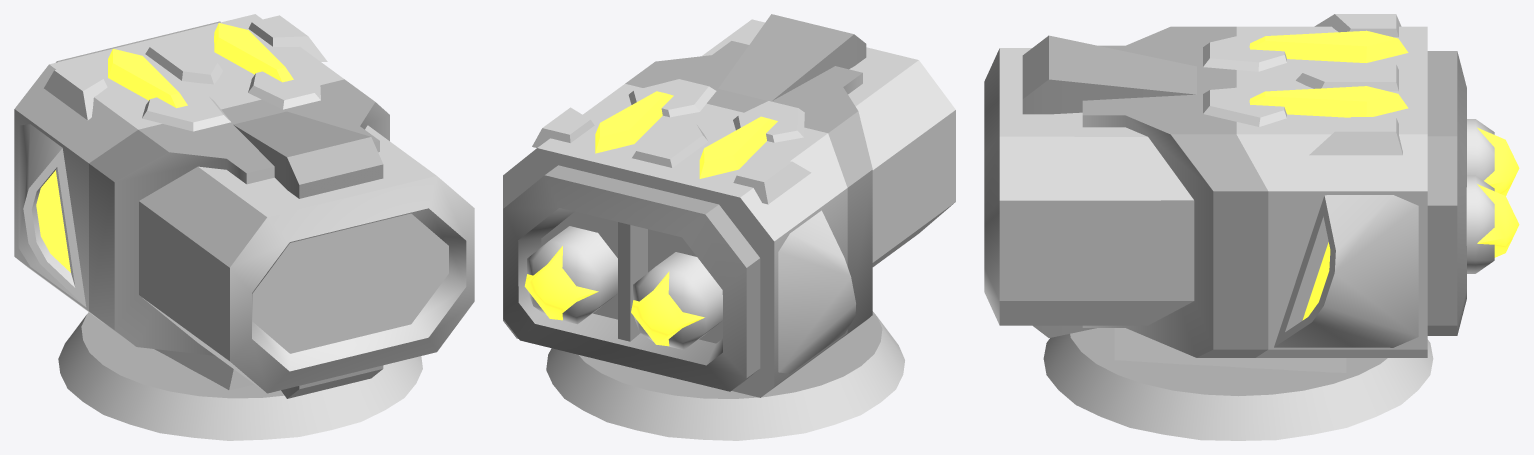
Rendered from SM_Module_TurretHead_Rocket_T1.fbx.
3 renders of one model, left to right at view 1: azimuth 30°, elevation 25°; view 2: azimuth 150°, elevation 25°; view 3: azimuth 270°, elevation 25°, orthographic. The views are drawn at different scales.
Visible parts, largest first — view 1: SM_Module_TurretHead_Rocket_T1; view 2: SM_Module_TurretHead_Rocket_T1; view 3: SM_Module_TurretHead_Rocket_T1.
Boxes of the visible parts, <box> form: SM_Module_TurretHead_Rocket_T1: <box>14,14,474,440</box>; SM_Module_TurretHead_Rocket_T1: <box>503,14,955,440</box>; SM_Module_TurretHead_Rocket_T1: <box>984,14,1519,440</box>.
Bounding box in the file's own units: 2.77 × 3.47 × 2.16.
